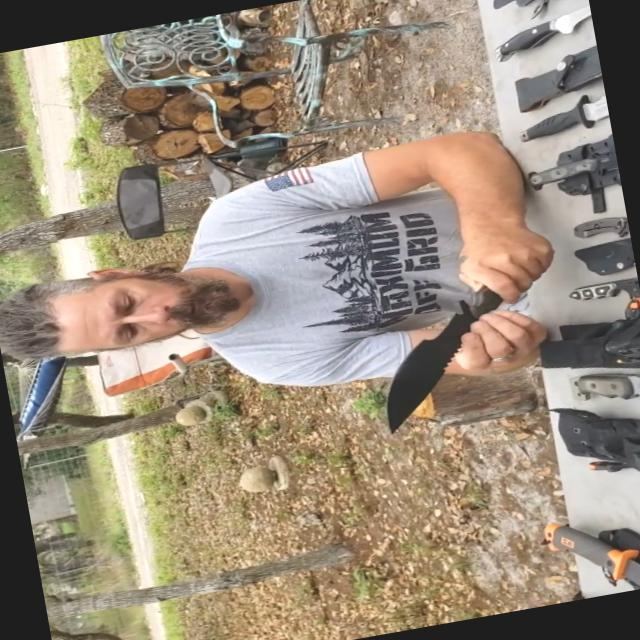knife: (346, 282, 544, 442), (502, 85, 612, 159), (482, 2, 596, 65), (561, 351, 639, 434), (515, 144, 619, 193)
